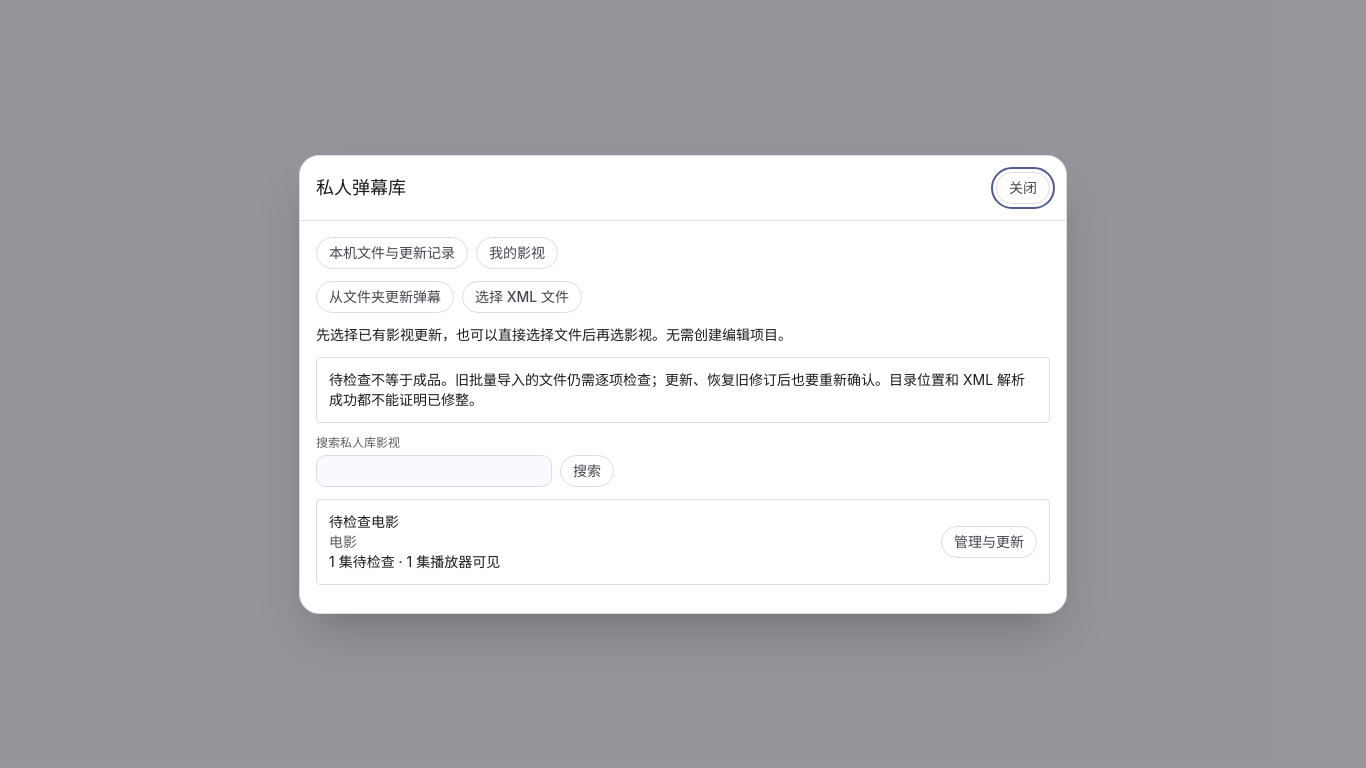
Test: can hide an unreviewed legacy episode without approving it and confirms the exact revision
The width and height of the screenshot is (1366, 768).
Click the button "管理与更新". click: x=989, y=542
box: 941,526 -> 1037,558
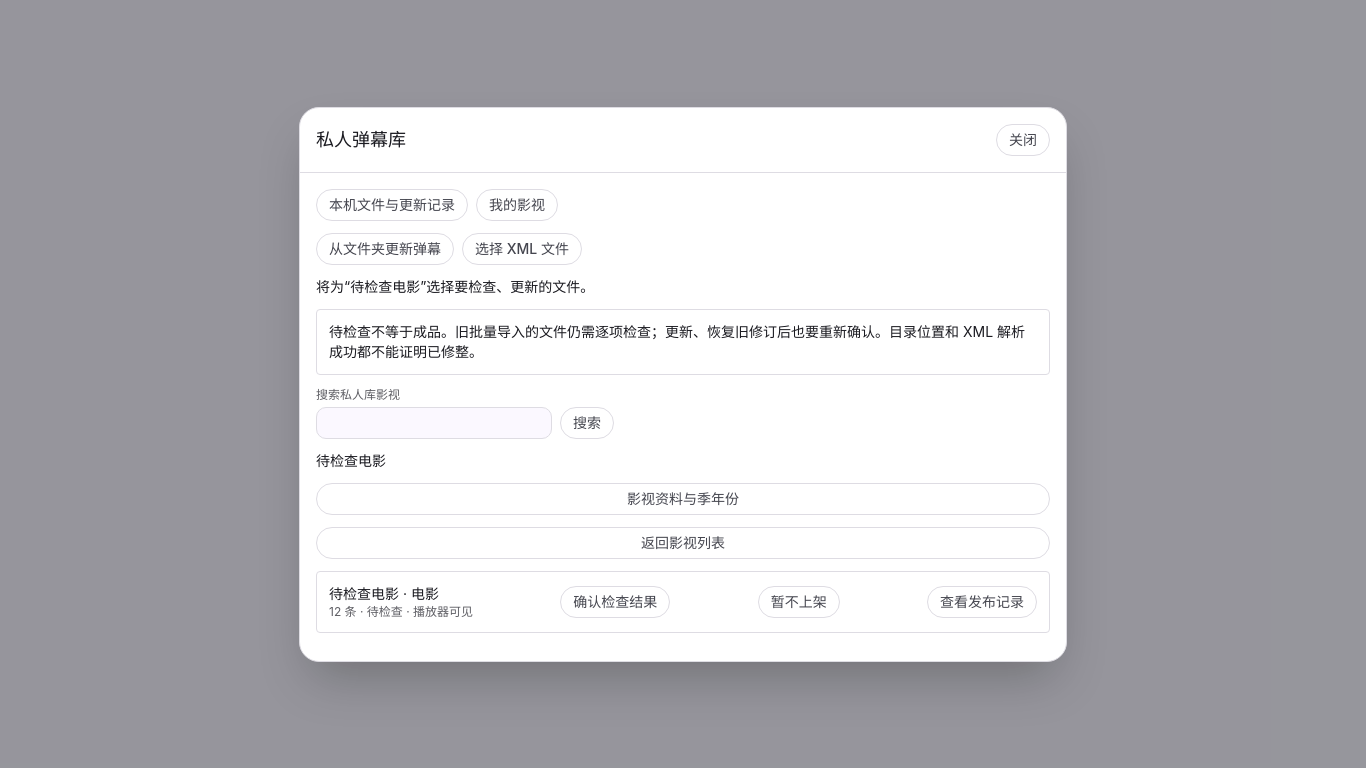
Click the button "暂不上架". click: x=799, y=602
box: 758,586 -> 840,618
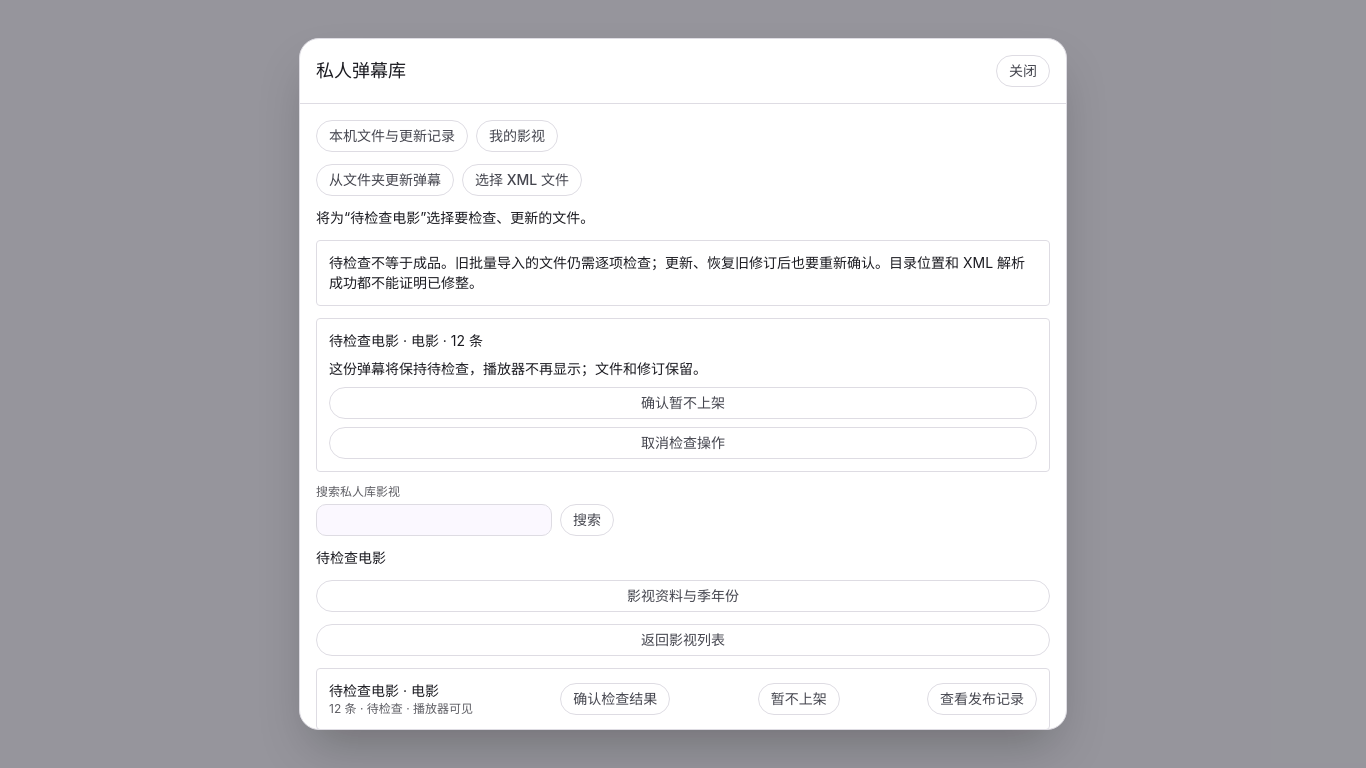
Click the button "确认暂不上架". click: x=683, y=403
box: 329,387 -> 1037,419
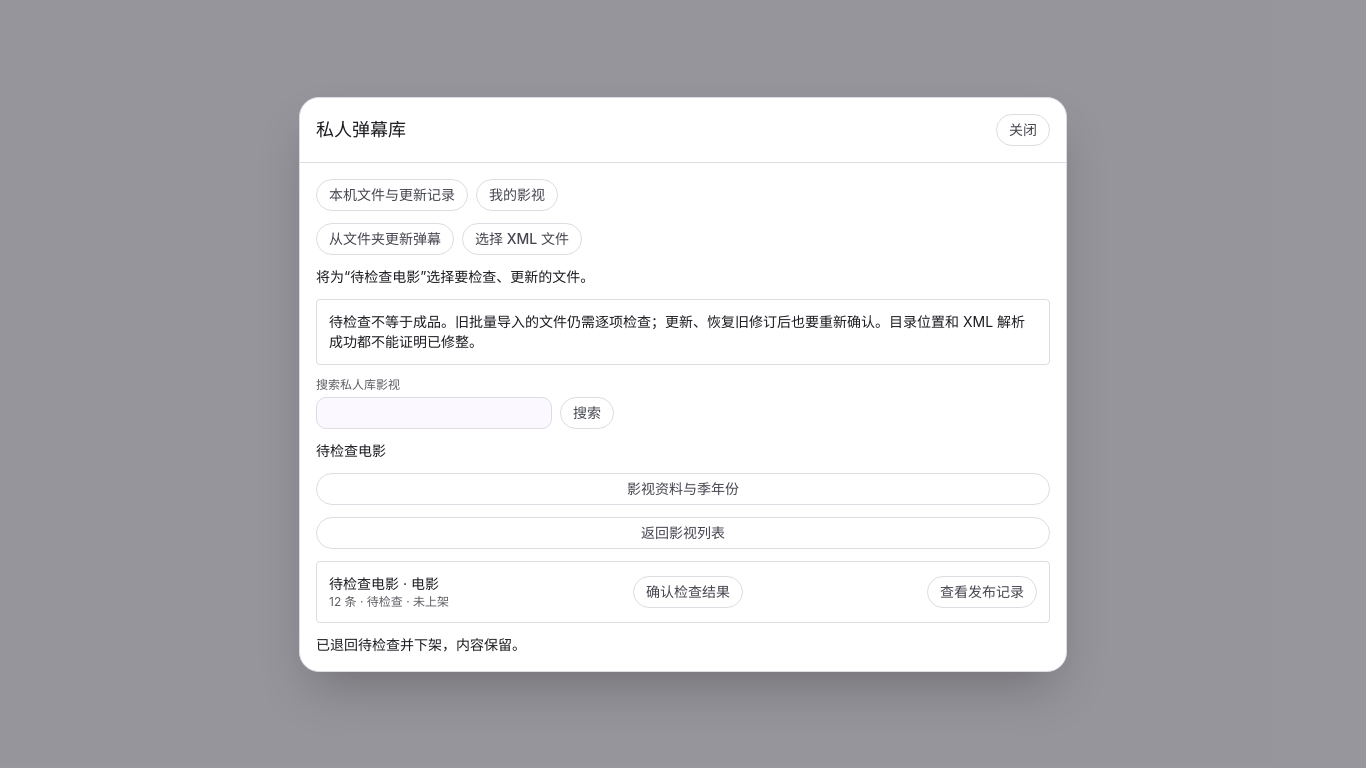
Result: the text "已退回待检查并下架，内容保留。" is shown at 316,636 -> 526,652
Result: the text "12 条 · 待检查 · 未上架" is shown at 329,594 -> 449,610
Result: the button "暂不上架" is gone
